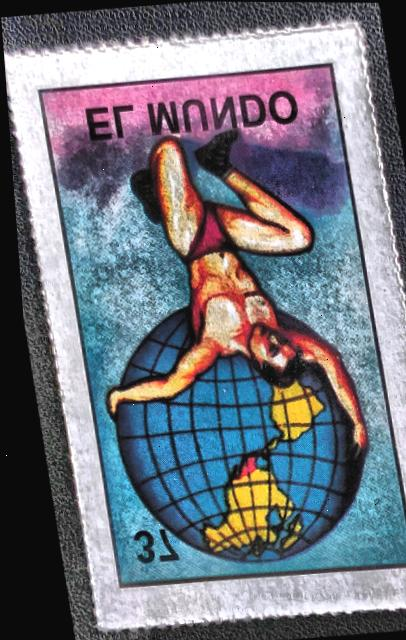El Mundo: (17, 38, 406, 620)
